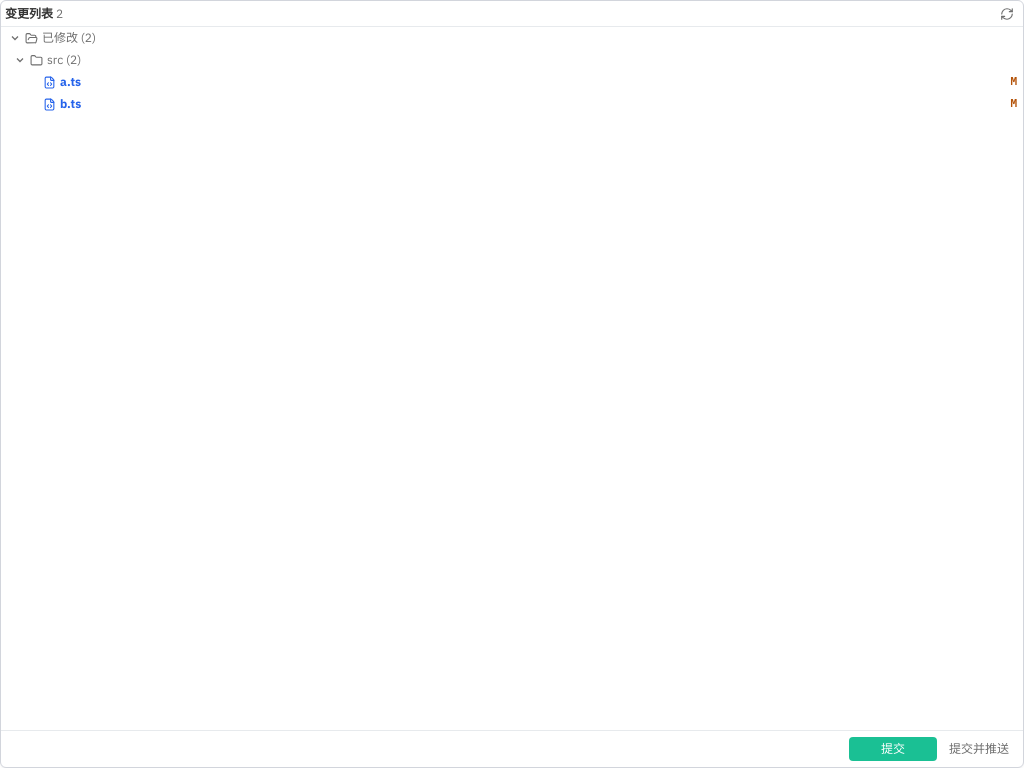
Test: GitStatusPanel 发送到会话 › 右键集合外的行 → 替换为仅该行后发送
The width and height of the screenshot is (1024, 768).
Click the list item with aria-label "src/a.ts" at (50, 82), box 1,71 -> 1023,93
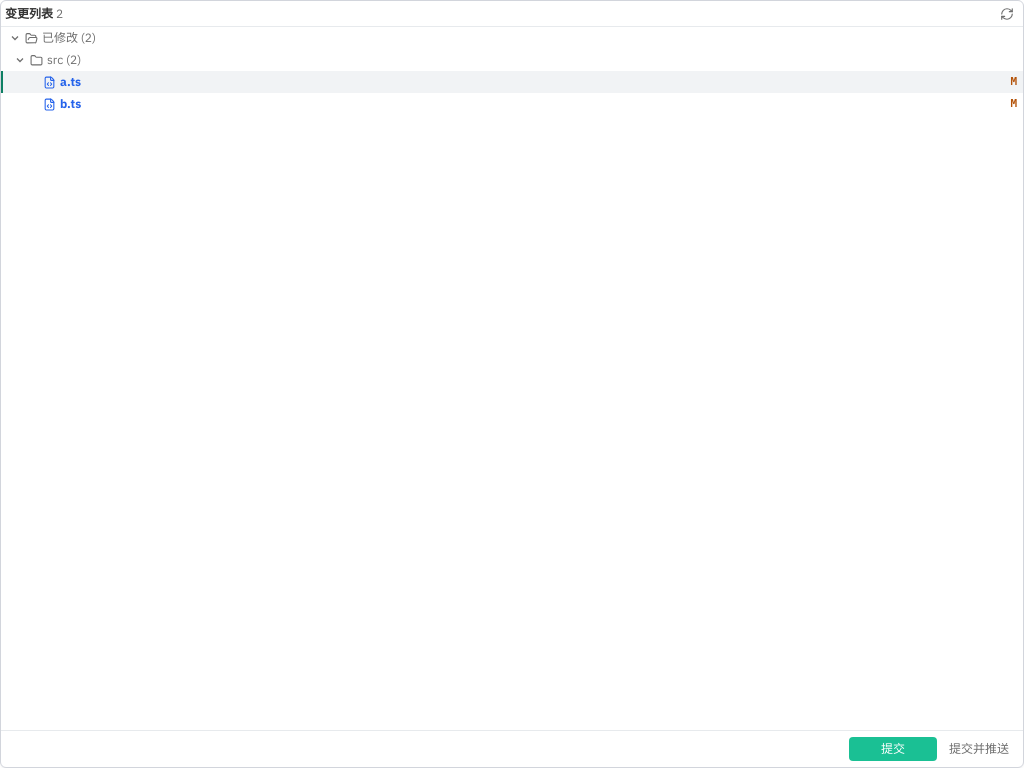
Click the list item with aria-label "src/b.ts" at (50, 104), box 1,93 -> 1023,115
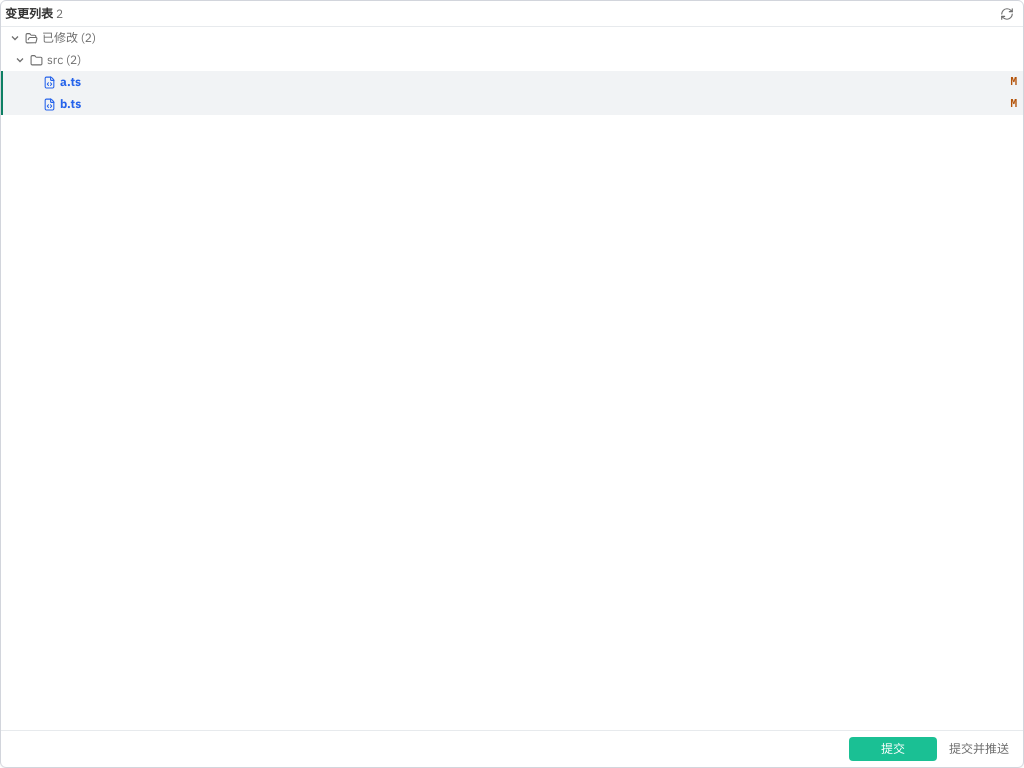
// 先取消 a 的选中，使 a 成为「集合外」的落点
Click the list item with aria-label "src/a.ts" at (50, 82), box 1,71 -> 1023,93
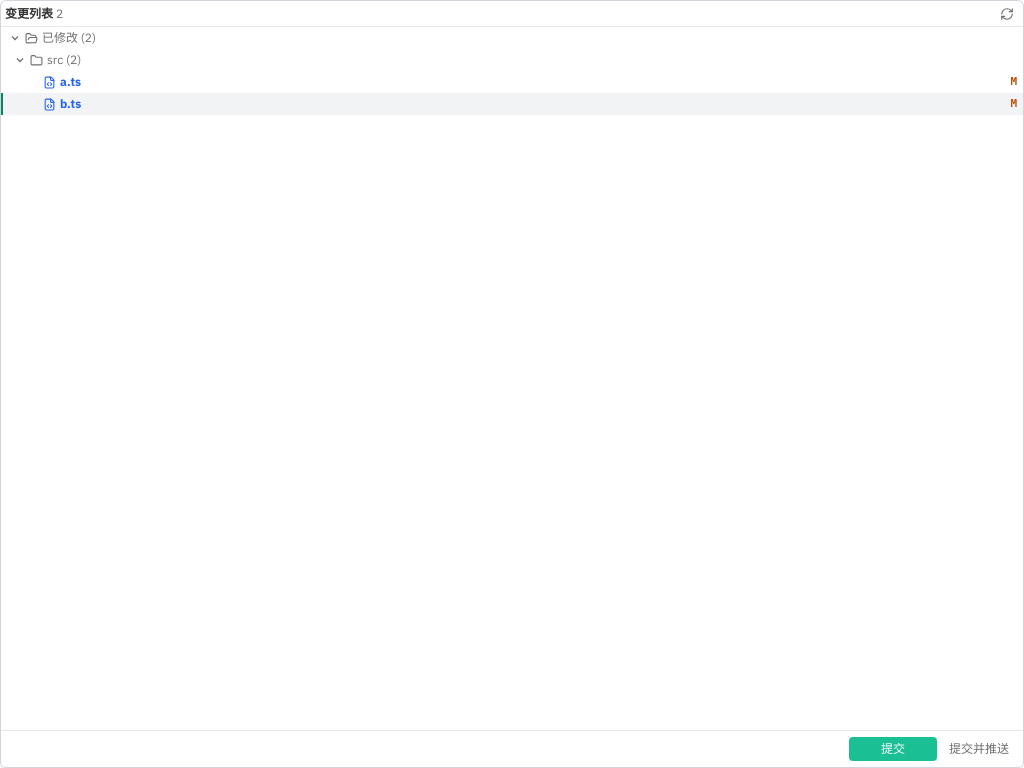
Right-click the list item with aria-label "src/a.ts" at (50, 82), box 1,71 -> 1023,93
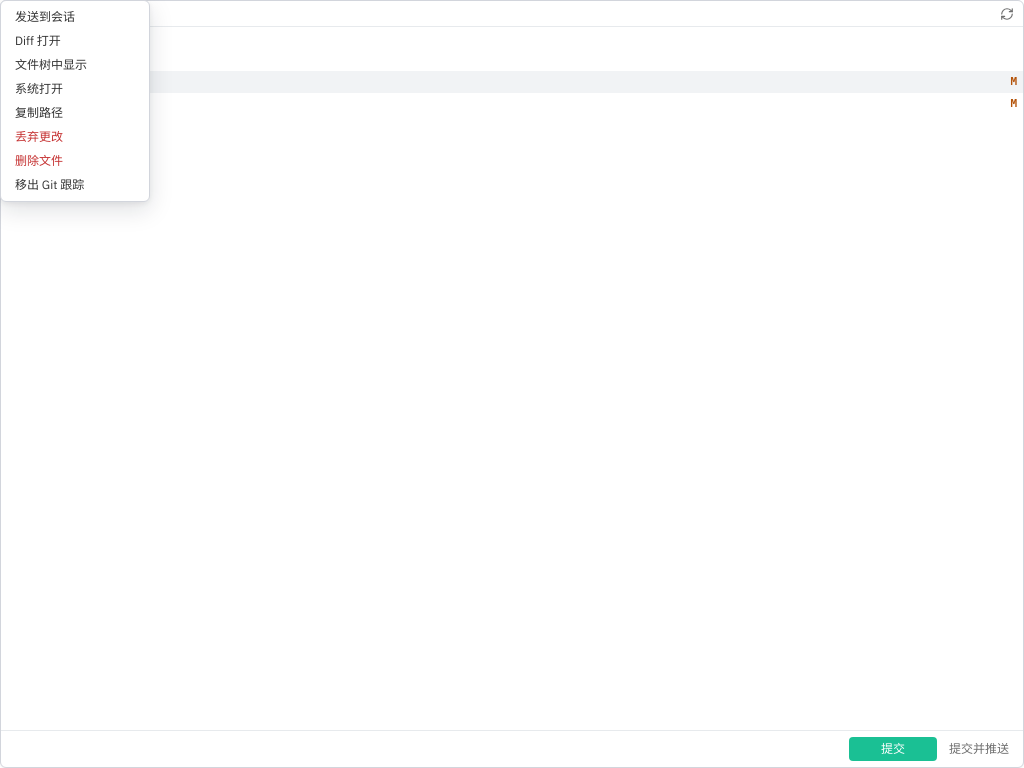
Click the menu item "发送到会话" at (75, 17), box 5,5 -> 145,29
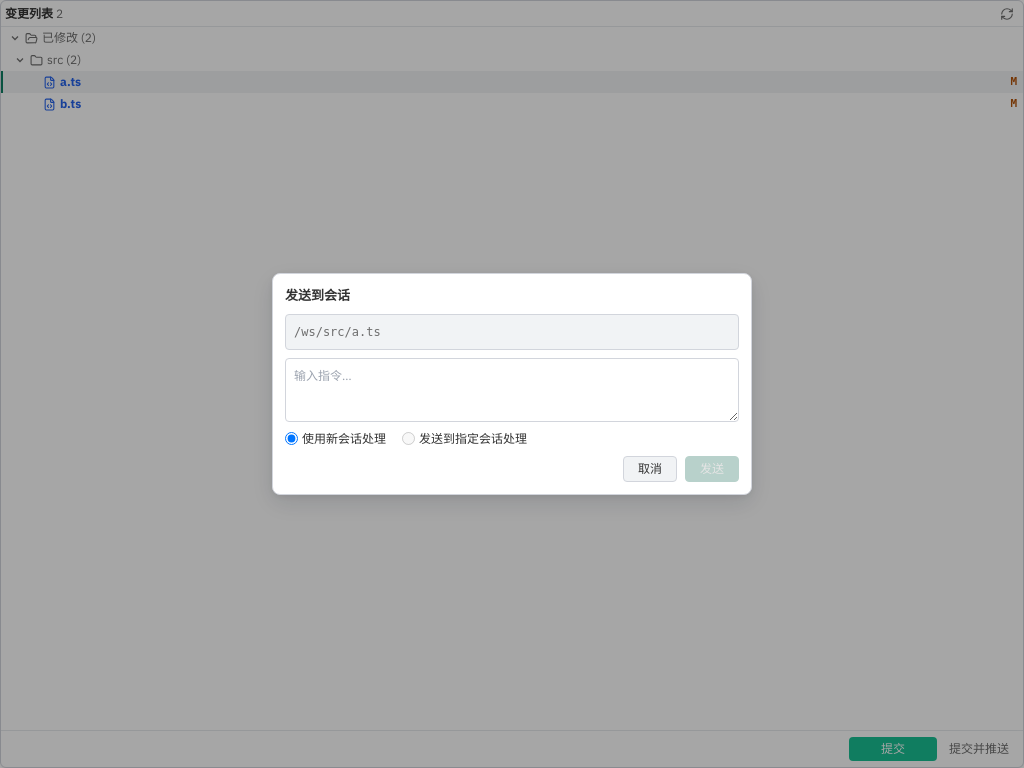
Expected: the text with test id "pm-send-dialog-preview" reads "/ws/src/a.ts", 294,325 -> 381,339
